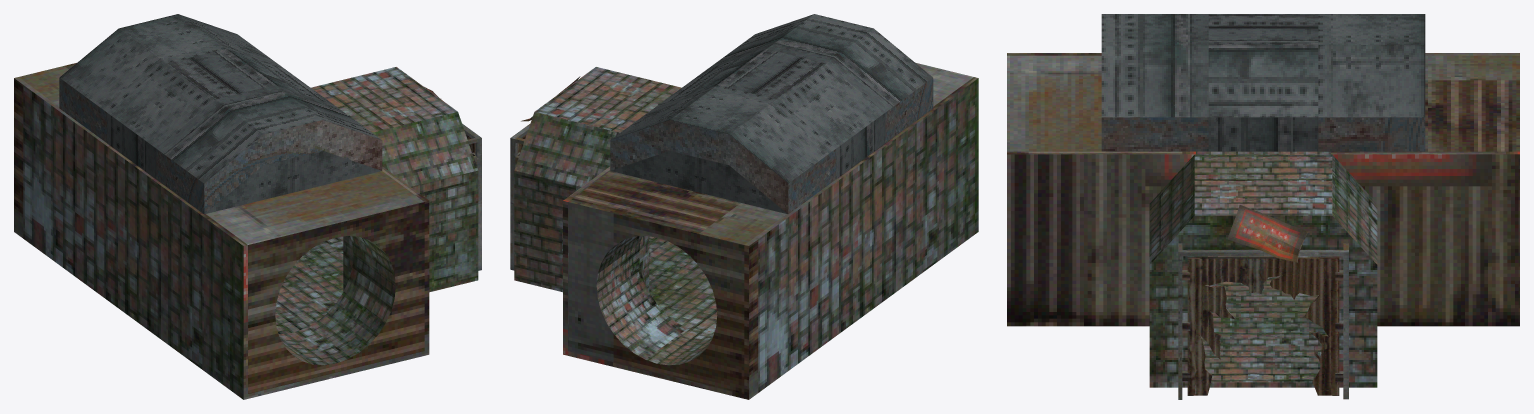
The model's file is dungeon_enter.glb.
3 views of the same model, side by side, from view 1: azimuth 30°, elevation 25°; view 2: azimuth 150°, elevation 25°; view 3: azimuth 270°, elevation 25° (orthographic). The views are drawn at different scales.
Visible parts, largest first — view 1: Cube.003, Cube.004, Cube.002, Cube.001; view 2: Cube.003, Cube.004, Cube.002, Cube.001; view 3: Cube.003, Cube.004, Cube.002, Cube, Cube.001, Plane.
Boxes of the visible parts, <box> form: Cube.003: <box>14,63,429,399</box>; Cube.004: <box>59,14,382,214</box>; Cube.002: <box>299,67,478,292</box>; Cube.001: <box>462,123,481,270</box>; Cube.003: <box>563,62,978,399</box>; Cube.004: <box>610,14,933,214</box>; Cube.002: <box>514,67,692,292</box>; Cube.001: <box>510,124,529,270</box>; Cube.003: <box>1007,53,1519,326</box>; Cube.004: <box>1101,14,1425,151</box>; Cube.002: <box>1149,151,1377,387</box>; Cube: <box>1187,257,1339,395</box>; Cube.001: <box>1178,243,1348,399</box>; Plane: <box>1227,205,1308,262</box>.
Size of the model in its own units: 7.92 by 5.13 by 9.6.
2 materials, 2 textured.
